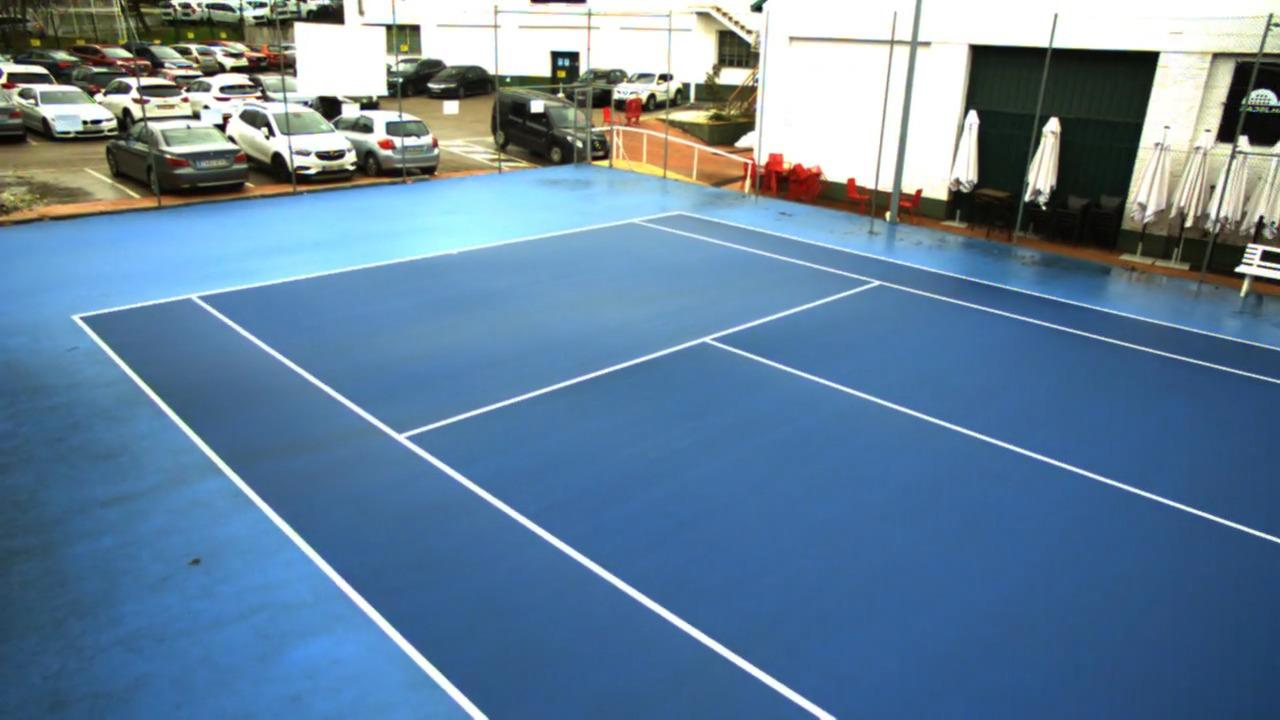cancha_tenis: (194, 218, 1280, 720)
point_f1: (179, 284, 215, 309)
point_f2: (624, 210, 650, 228)
point_fc1: (446, 242, 466, 262)
point_i1: (384, 421, 424, 449)
point_i2: (863, 273, 890, 297)
point_ic1: (694, 327, 723, 352)
